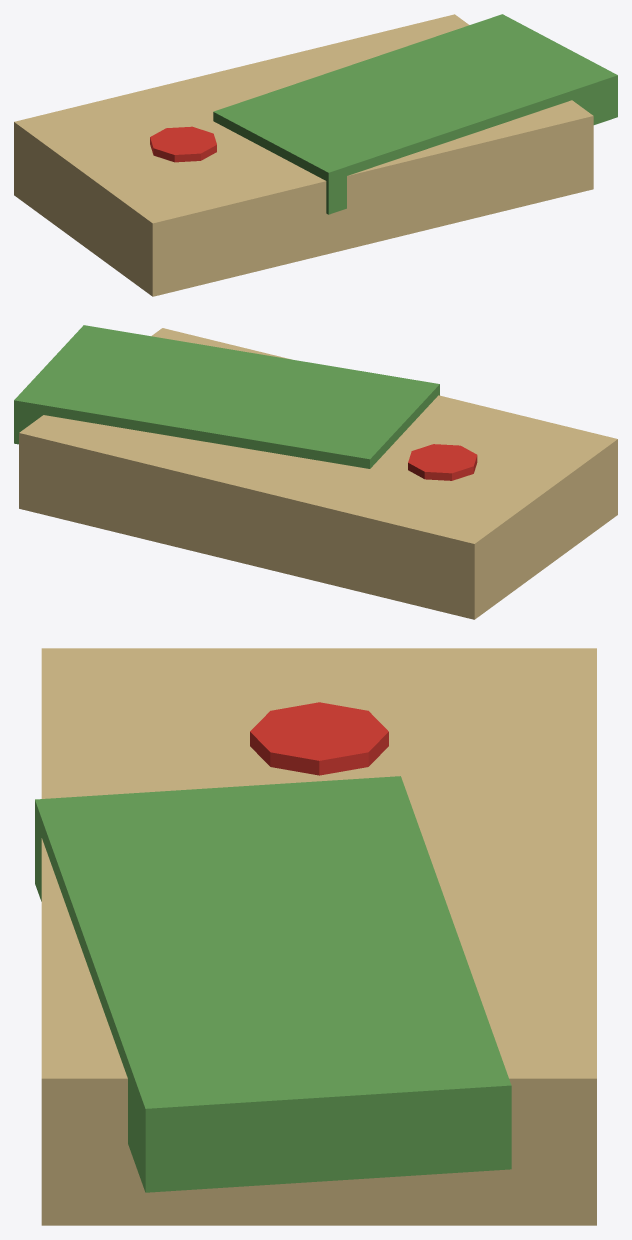
The model's file is bowl_judge_envelope.glb.
3 renders of one model, top to bottom at view 1: azimuth 30°, elevation 25°; view 2: azimuth 150°, elevation 25°; view 3: azimuth 270°, elevation 25°, orthographic. The views are drawn at different scales.
Visible parts, largest first — view 1: envelope_envelope, bills_bills, seal_seal; view 2: envelope_envelope, bills_bills, seal_seal; view 3: envelope_envelope, bills_bills, seal_seal.
Part boxes in pixels (<box>): envelope_envelope: <box>14,14,593,296</box>; bills_bills: <box>213,14,617,214</box>; seal_seal: <box>150,126,216,162</box>; envelope_envelope: <box>19,328,617,619</box>; bills_bills: <box>14,325,439,468</box>; seal_seal: <box>408,444,477,480</box>; envelope_envelope: <box>41,648,596,1225</box>; bills_bills: <box>35,776,511,1192</box>; seal_seal: <box>250,702,388,775</box>.
Bounding box in the file's own units: 0.2451 × 0.0395 × 0.1215.
